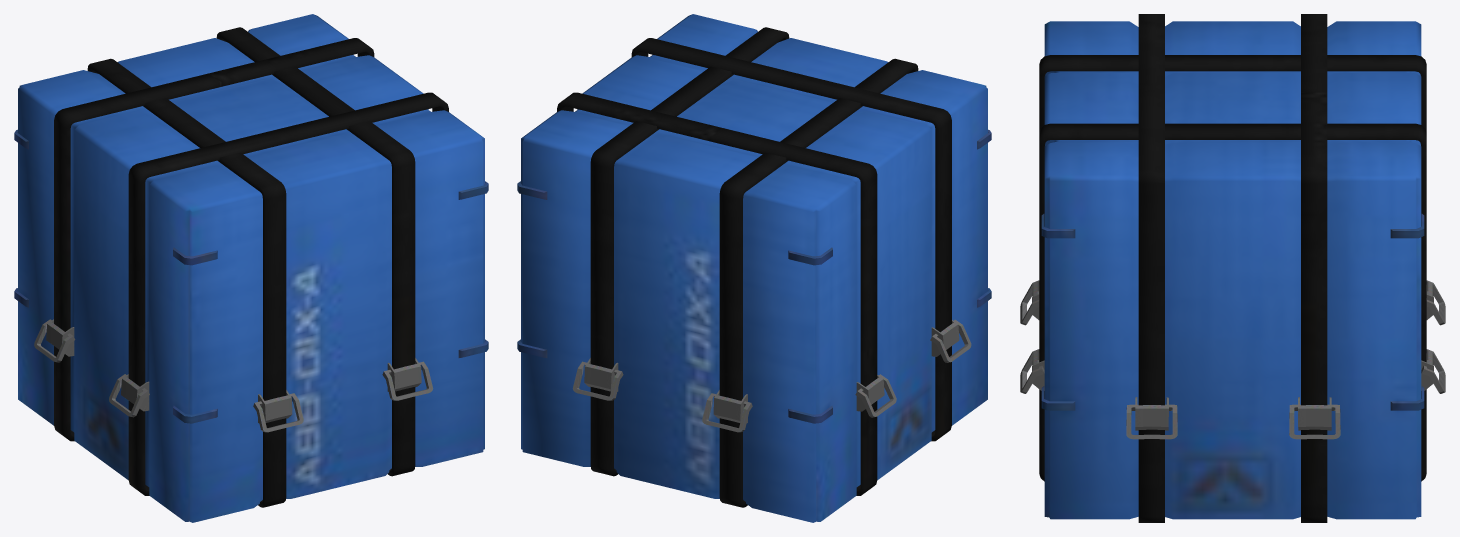
3 renders of one model, left to right at view 1: azimuth 30°, elevation 25°; view 2: azimuth 150°, elevation 25°; view 3: azimuth 270°, elevation 25°, orthographic. The views are drawn at different scales.
Visible parts, largest first — view 1: Prop_Crate_Tarp; view 2: Prop_Crate_Tarp; view 3: Prop_Crate_Tarp.
Part boxes in pixels (x1,y1,x2,y2): Prop_Crate_Tarp: [14, 14, 488, 522]; Prop_Crate_Tarp: [517, 14, 991, 522]; Prop_Crate_Tarp: [1020, 14, 1445, 522].
Bounding box in the file's own units: 1.2 × 1.1 × 1.2.
1 material, 1 textured.
